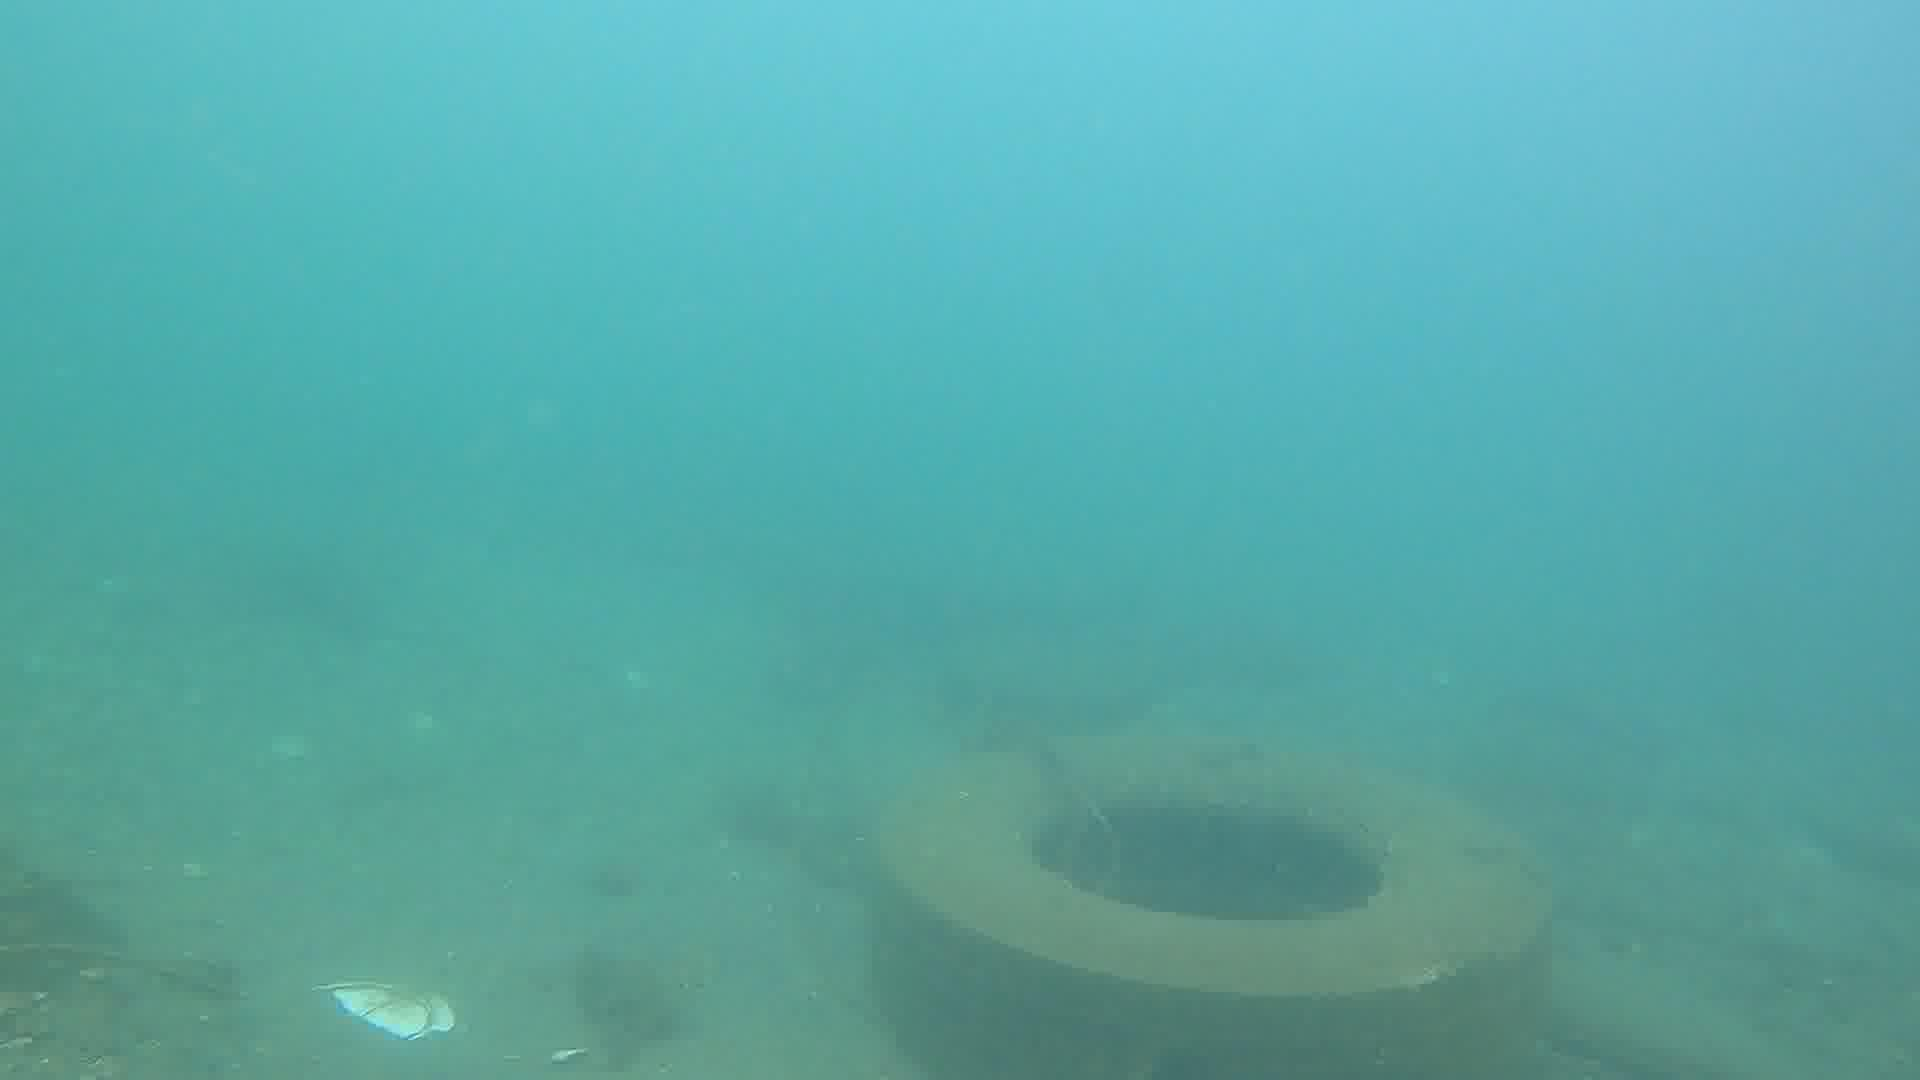tire: (865, 728, 1557, 1080)
